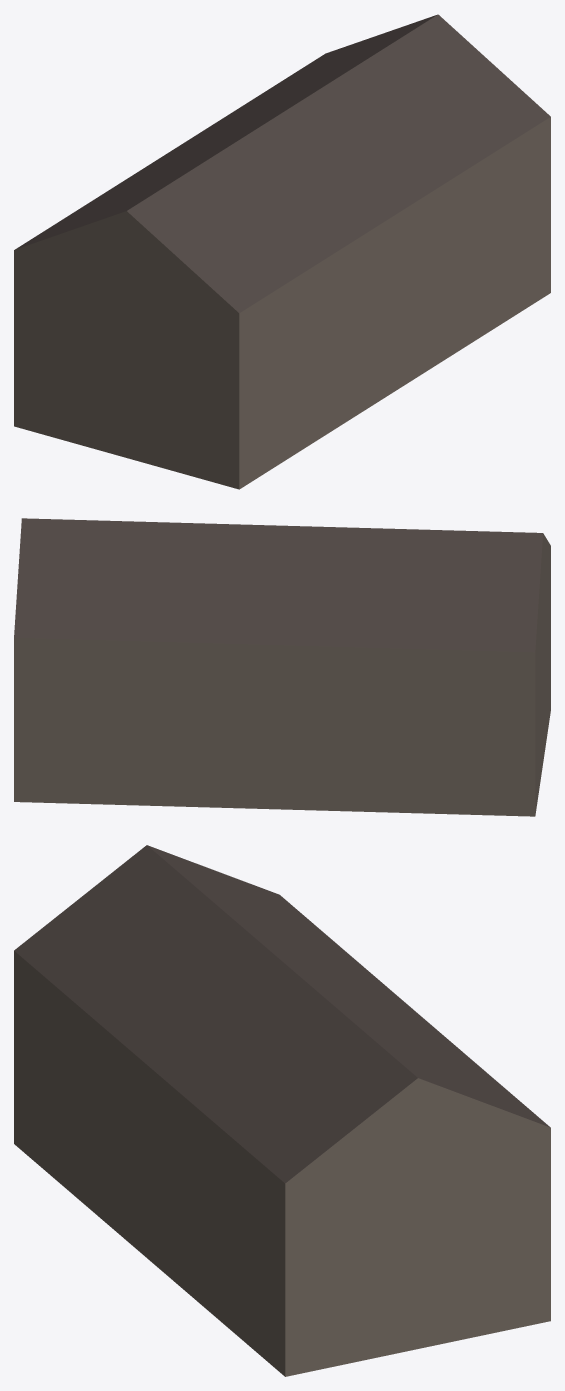
3 views of the same model, one above another, from view 1: azimuth 30°, elevation 25°; view 2: azimuth 150°, elevation 25°; view 3: azimuth 270°, elevation 25° (orthographic). The views are drawn at different scales.
Parts seen in each view (by area): view 1: HP-w859086205; view 2: HP-w859086205; view 3: HP-w859086205.
Part boxes in pixels (x1,y1,x2,y2): HP-w859086205: [14, 14, 550, 489]; HP-w859086205: [14, 518, 550, 816]; HP-w859086205: [14, 845, 550, 1376].
Bounding box in the file's own units: 28.83 × 12.61 × 22.65.
